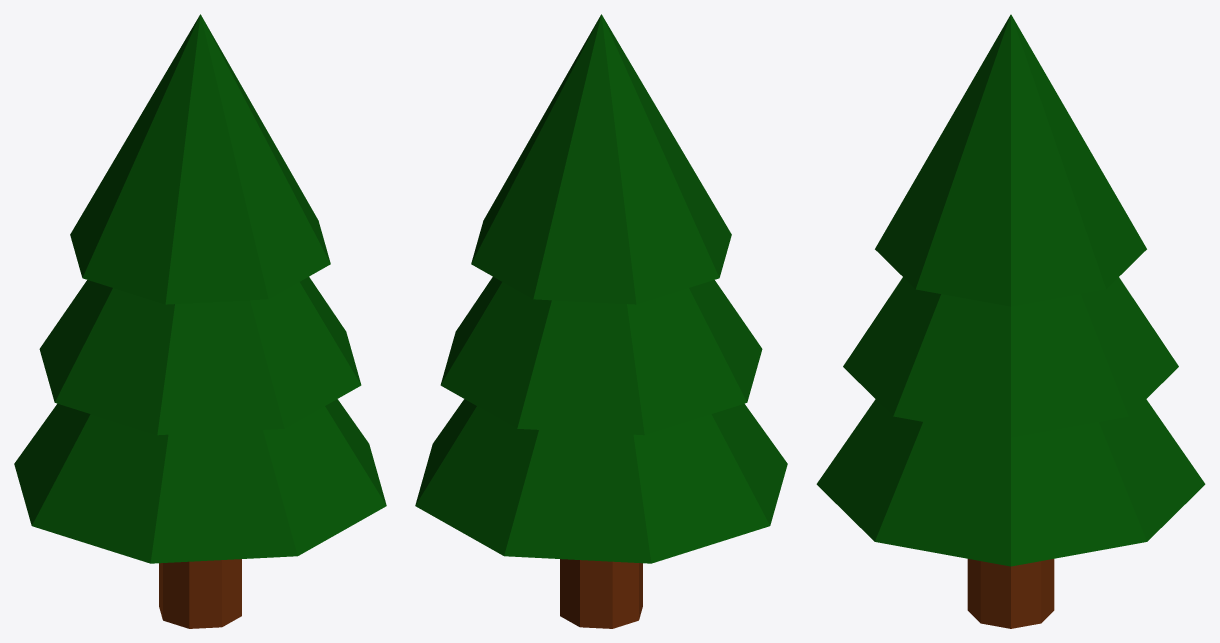
The model's file is Tree.fbx.
The picture shows the model from 3 angles, left to right: view 1: azimuth 30°, elevation 25°; view 2: azimuth 150°, elevation 25°; view 3: azimuth 270°, elevation 25°; orthographic projection.
Visible parts, largest first — view 1: Tree; view 2: Tree; view 3: Tree.
Part boxes in pixels (left/top/right/bottom): Tree: left=14, top=14, right=386, bottom=628; Tree: left=415, top=14, right=787, bottom=628; Tree: left=816, top=14, right=1205, bottom=628.
Size of the model in its own units: 900 by 1522 by 900.
